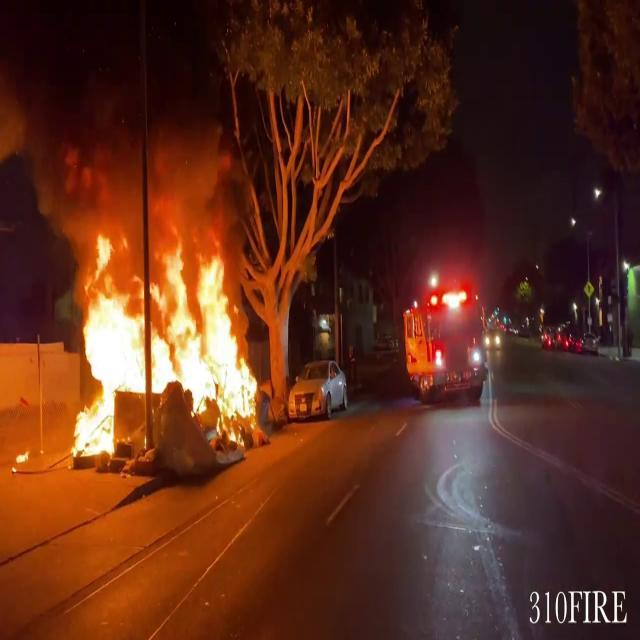Fire: (60, 220, 262, 459)
Smoke: (0, 0, 236, 256)
